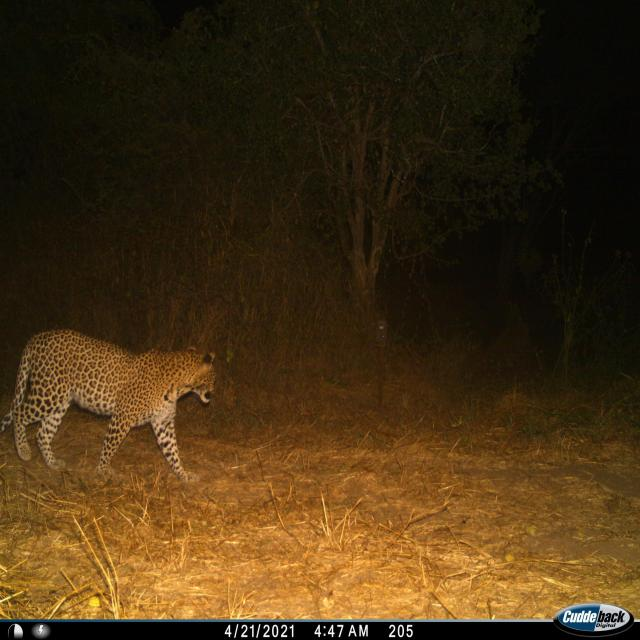Leopard: (0, 328, 225, 490)
